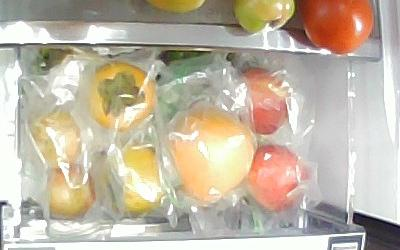apple_vinyl: (249, 145, 309, 214), (236, 67, 291, 135)
grapefruit_vinyl: (168, 105, 255, 206)
persimmon_vinyl: (88, 62, 157, 130), (104, 142, 163, 218)
prune_vinyl: (30, 108, 81, 168), (45, 166, 96, 220)
